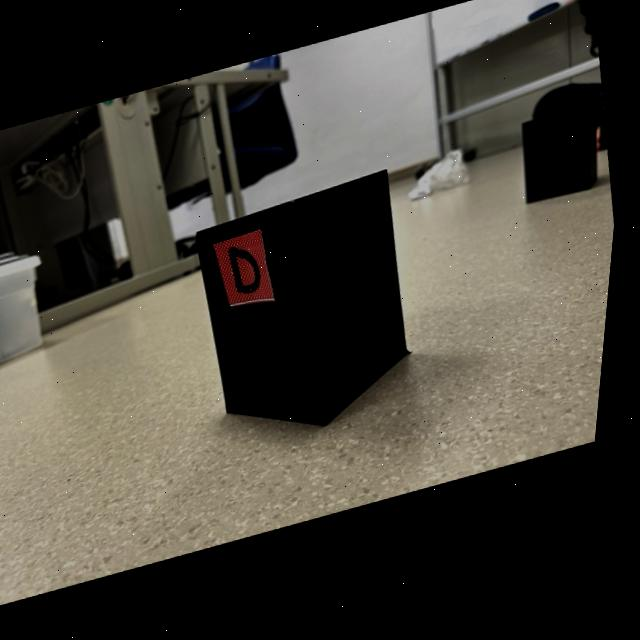D: (234, 252, 265, 298)
